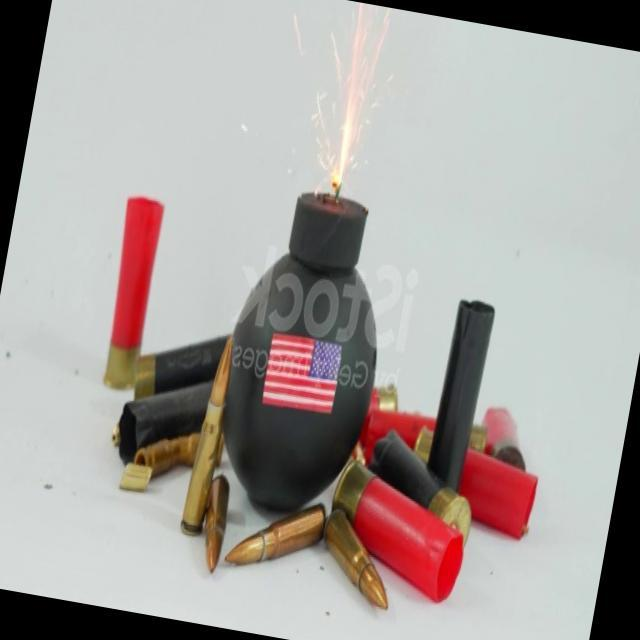grenade: (199, 175, 411, 530)
